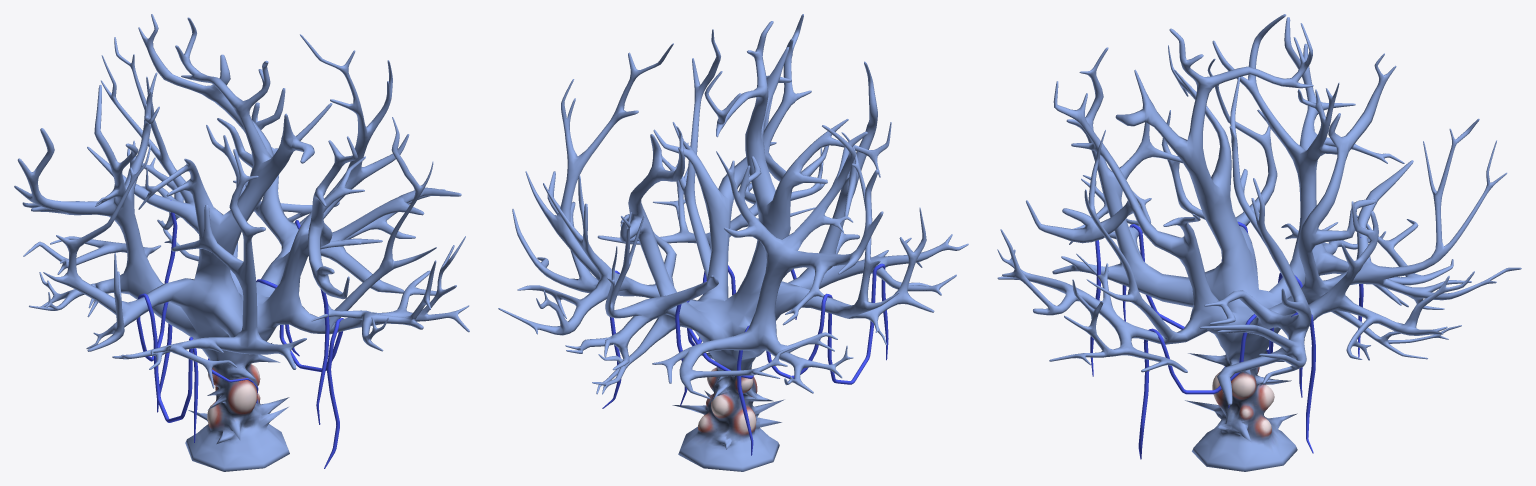
The model's file is tree_4_w_vines.fbx.
3 views of the same model, side by side, from view 1: azimuth 30°, elevation 25°; view 2: azimuth 150°, elevation 25°; view 3: azimuth 270°, elevation 25° (orthographic). The views are drawn at different scales.
Visible parts, largest first — view 1: tree 4.001; view 2: tree 4.001; view 3: tree 4.001.
Boxes of the visible parts, <box> form: tree 4.001: <box>14,14,469,471</box>; tree 4.001: <box>498,14,968,471</box>; tree 4.001: <box>997,14,1521,471</box>.
Bounding box in the file's own units: 955 × 948 × 1068.
